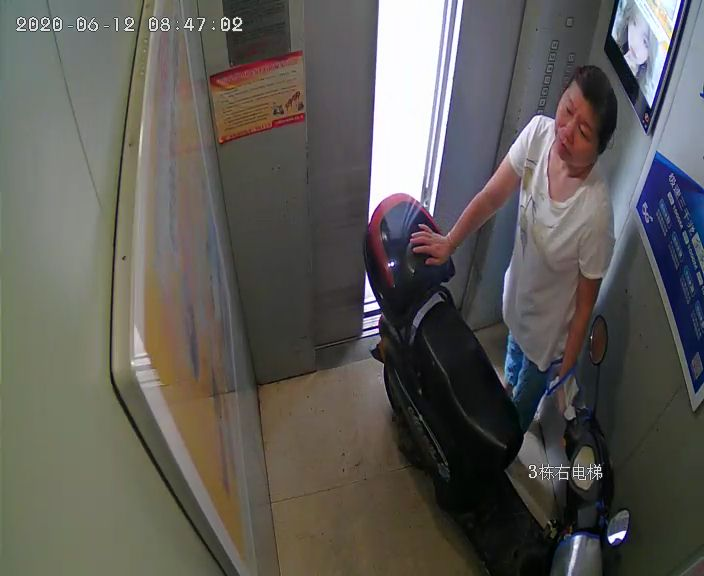Electric-bicycle: (362, 192, 633, 576)
